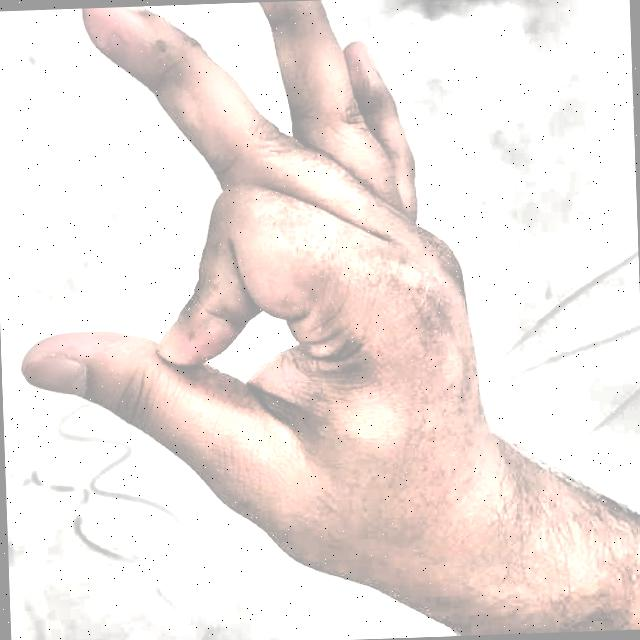Uo: (4, 0, 577, 630)
